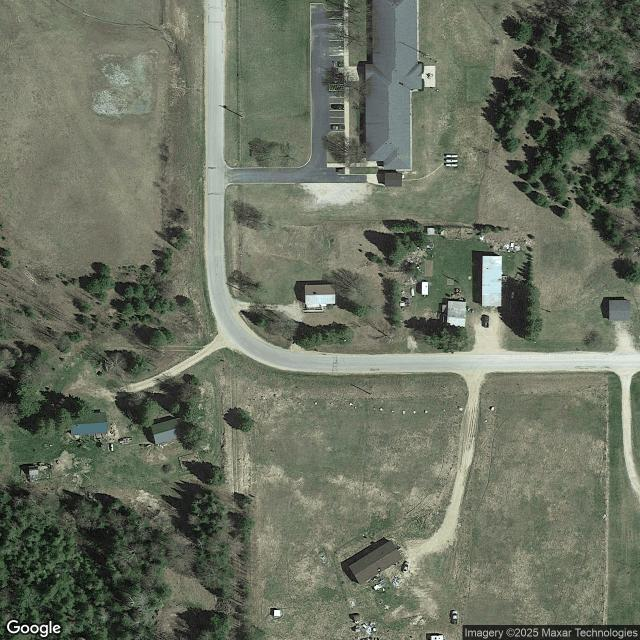Propane: (445, 154, 458, 158), (445, 159, 458, 163), (446, 164, 458, 167), (511, 291, 515, 300), (110, 444, 114, 452)
